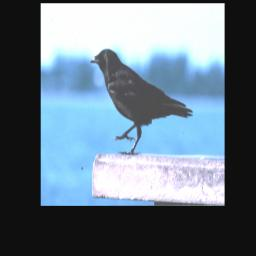Crow: (88, 45, 195, 158)
